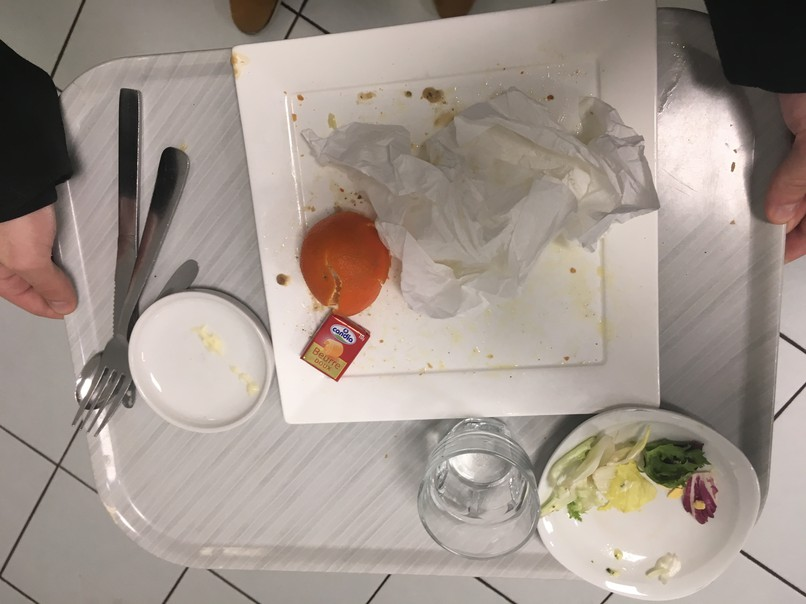orga: (564, 430, 718, 542), (298, 208, 386, 308)
trash: (440, 79, 659, 241), (312, 127, 443, 222), (386, 228, 534, 307), (305, 312, 366, 382)
